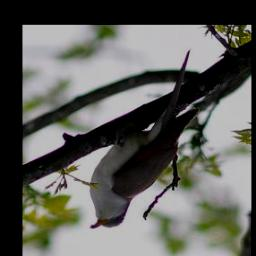Cuckoo: (89, 46, 201, 229)
